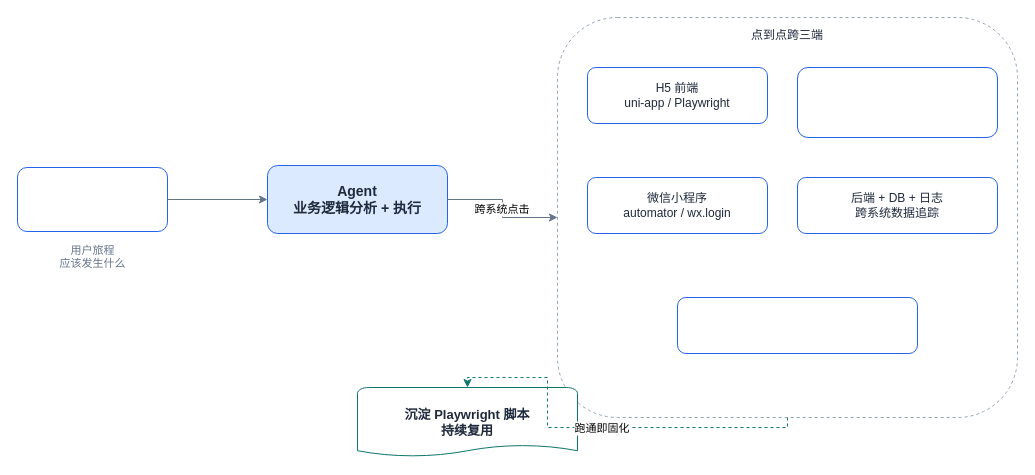
This 1035x475 diagram has some shape labels left out. Each missing label, with the centre of its shape:
"业务描述 / PRD" belongs at pixel 92 199.
"微信支付 mock 定时任务分账" belongs at pixel 797 325.
"运营后台 Spring Boot + Element Plus" belongs at pixel 897 102.
